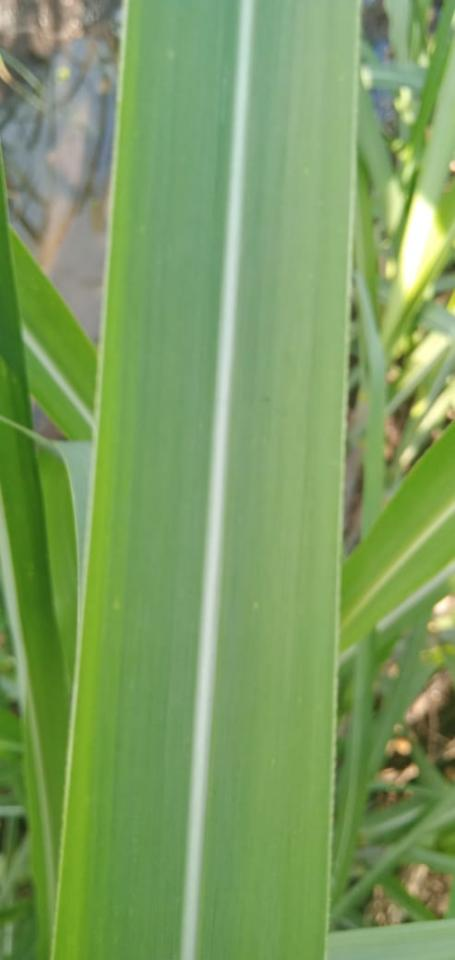Healthy: (51, 0, 241, 959), (196, 0, 360, 959), (0, 421, 71, 879), (340, 422, 454, 621), (340, 514, 454, 652), (10, 230, 95, 405), (0, 160, 30, 426), (27, 346, 96, 441), (326, 920, 454, 959)
